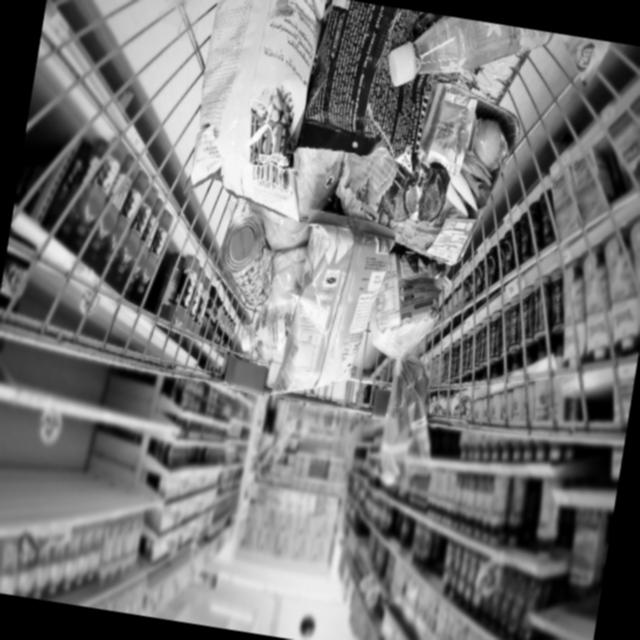banh mi: (350, 258, 454, 458)
bap cai: (279, 139, 346, 227)
dau: (230, 304, 294, 378)
